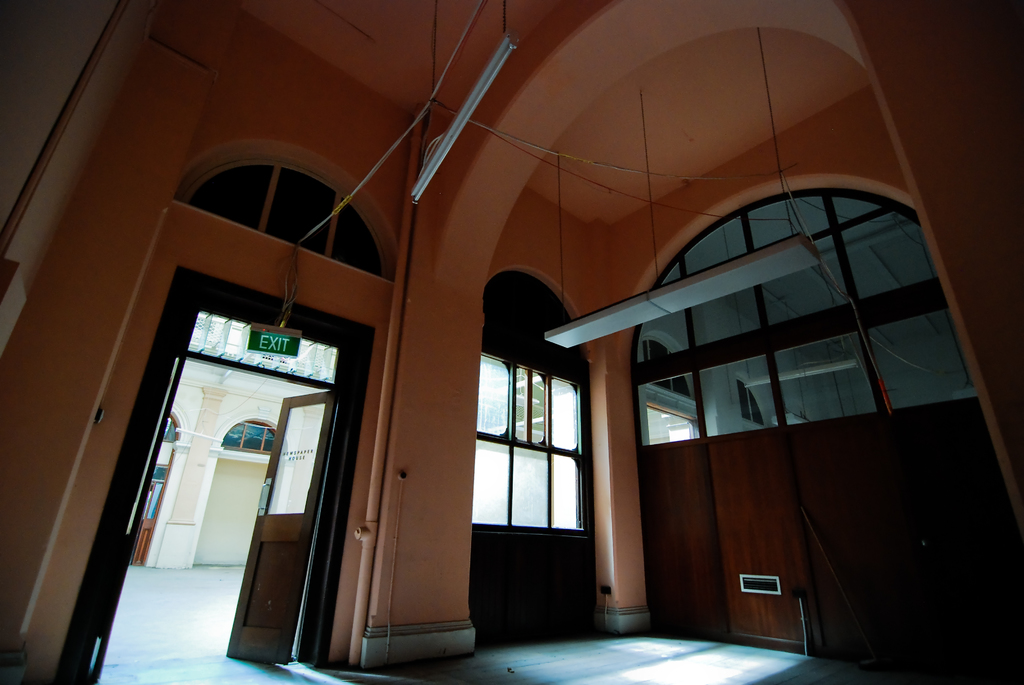Door: (219, 390, 335, 661)
